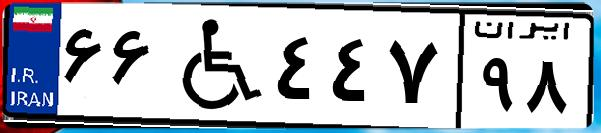4: (270, 28, 330, 110), (330, 28, 385, 110)
6: (57, 26, 110, 100), (110, 28, 158, 98)
7: (385, 28, 445, 110)
8: (525, 38, 570, 115)
9: (475, 38, 525, 113)
ژ (معلولین و جانبازان): (158, 12, 270, 120)
